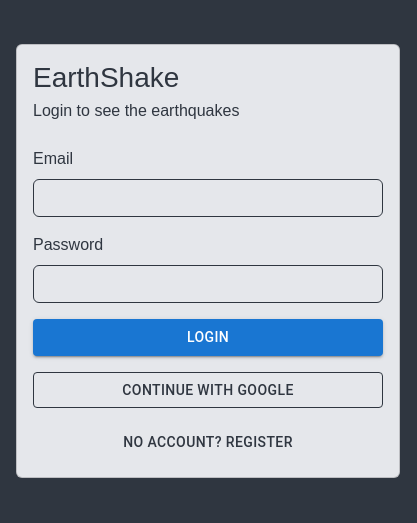
Login › shows an error message when login fails
Type "andy@mail.com" into the field at coordinates (208, 198), box [33,179,383,217]
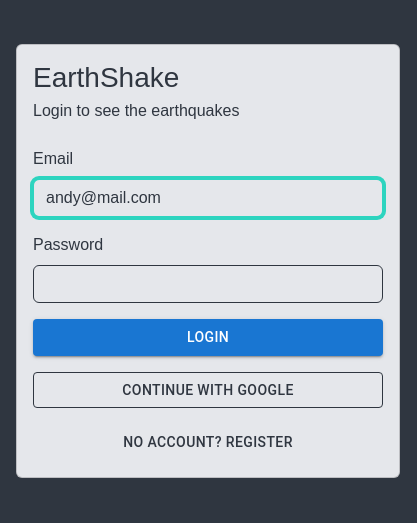
Type "wrongpass" into the password field at coordinates (208, 284), box [33,265,383,303]
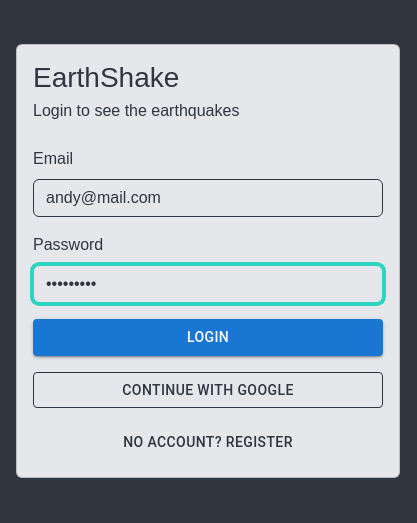
Click the button "Login" at coordinates (208, 337), box [33,319,383,356]
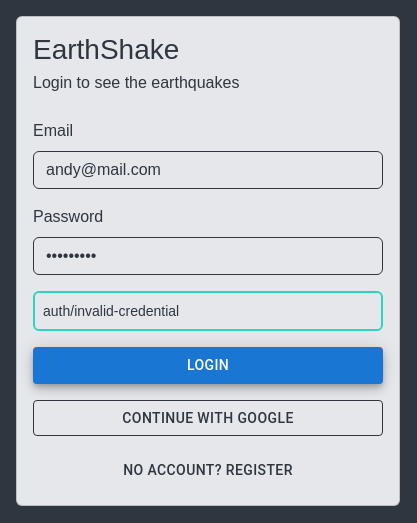
Result: the text "auth/invalid-credential" is shown at [33,291,383,331]
